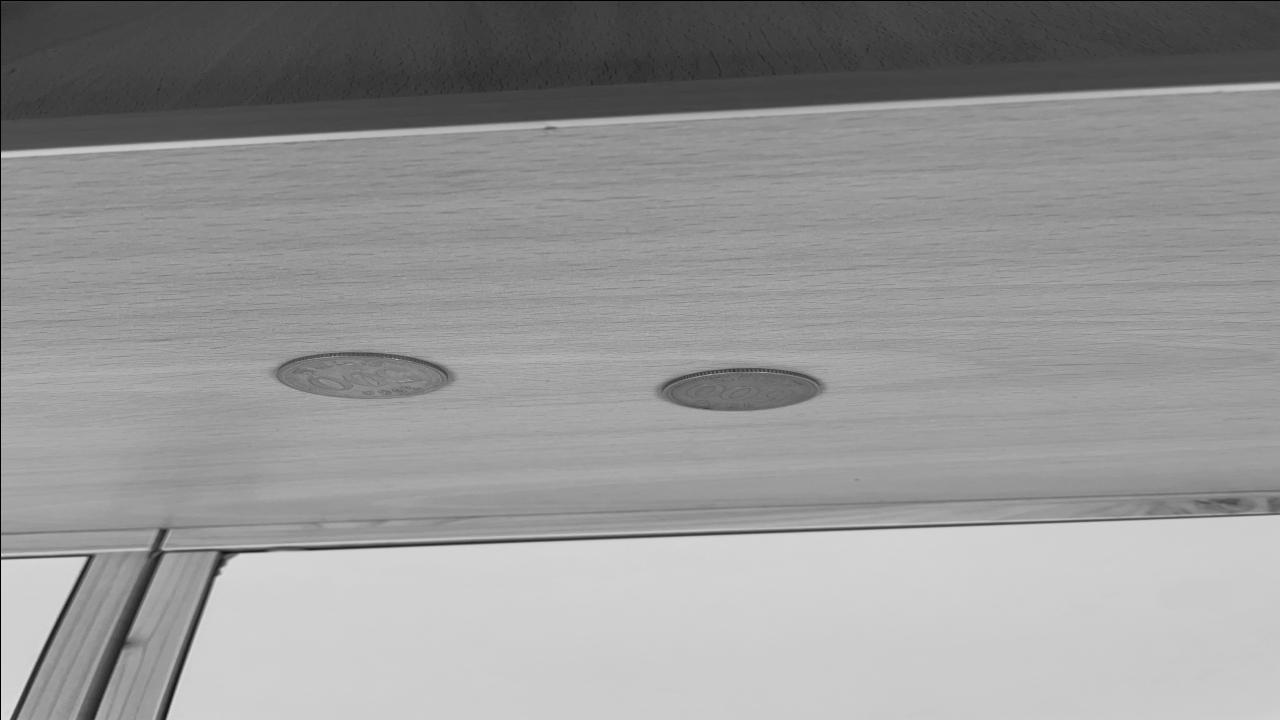coin: (268, 350, 452, 402), (654, 366, 824, 414)
